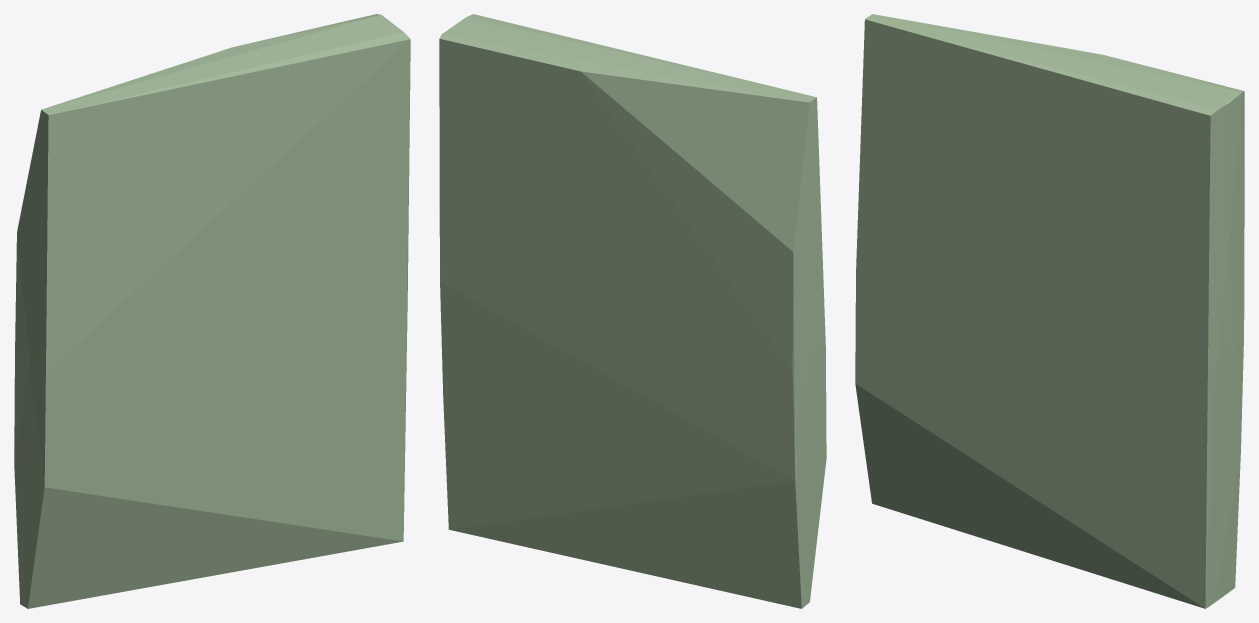
The model's file is box_cardboard_folded_white_a02.glb.
3 views of the same model, side by side, from view 1: azimuth 30°, elevation 25°; view 2: azimuth 150°, elevation 25°; view 3: azimuth 330°, elevation 25° (orthographic).
Visible parts, largest first — view 1: geometry_0; view 2: geometry_0; view 3: geometry_0.
Part boxes in pixels (left/top/right/bottom): geometry_0: left=14, top=14, right=410, bottom=608; geometry_0: left=439, top=14, right=826, bottom=608; geometry_0: left=855, top=14, right=1244, bottom=608.
Size of the model in its own units: 0.3604 by 0.48 by 0.0593.
